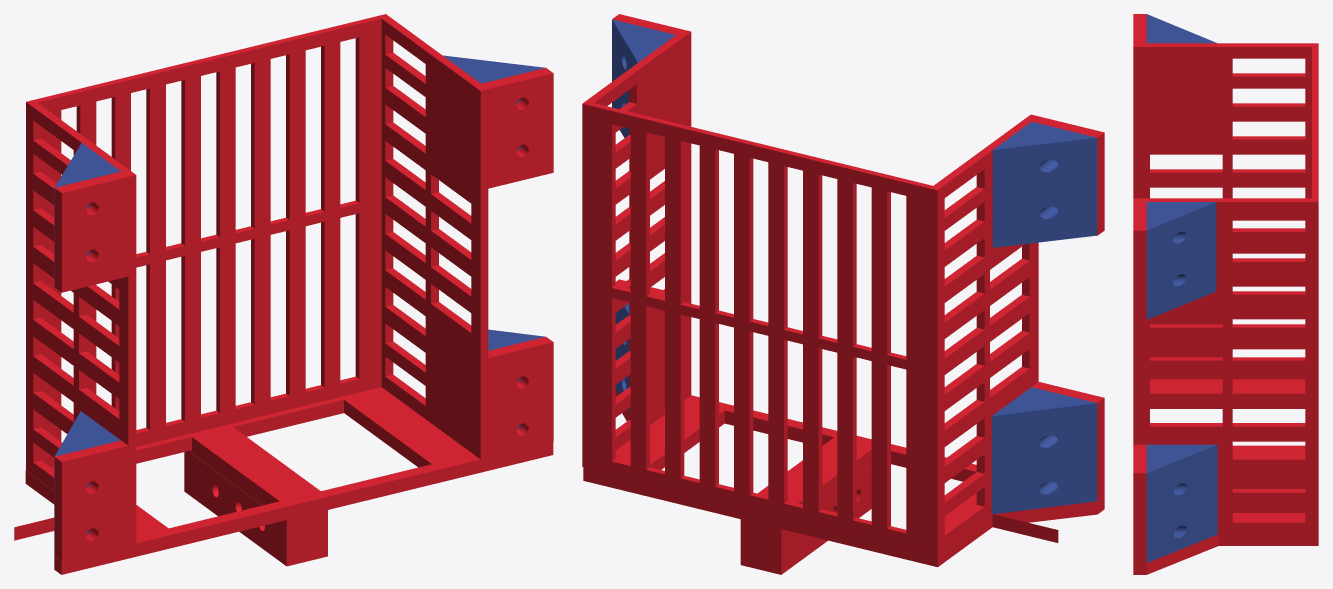
Rendered from tinker.obj.
3 views of the same model, side by side, from view 1: azimuth 30°, elevation 25°; view 2: azimuth 150°, elevation 25°; view 3: azimuth 270°, elevation 25° (orthographic). The views are drawn at different scales.
Visible parts, largest first — view 1: group_0_15277357, group_0_3888547; view 2: group_0_15277357, group_0_3888547; view 3: group_0_15277357, group_0_3888547.
Boxes of the visible parts, x1,y1,x2,y2 form: group_0_15277357: (14,14,553,574); group_0_3888547: (54,55,545,555); group_0_15277357: (582,14,1104,574); group_0_3888547: (612,19,1097,514); group_0_15277357: (1133,14,1318,574); group_0_3888547: (1146,14,1217,562).
Bounding box in the file's own units: 155 × 129 × 56.01.
